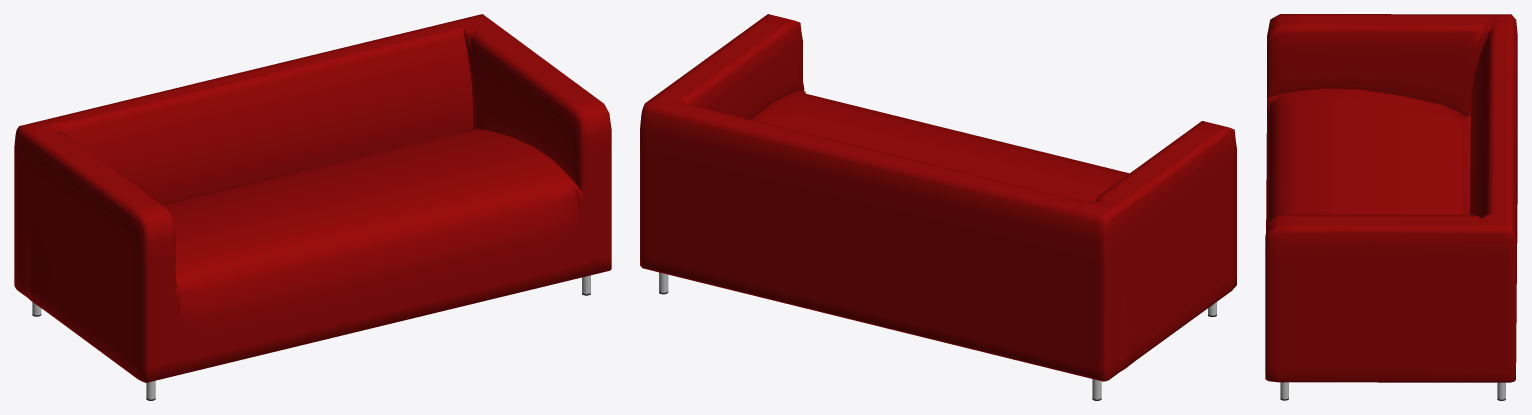
The model's file is IKEA-Kipplan_2_Seat_Sofa-3D.obj.
3 views of the same model, side by side, from view 1: azimuth 30°, elevation 25°; view 2: azimuth 150°, elevation 25°; view 3: azimuth 270°, elevation 25° (orthographic). The views are drawn at different scales.
Parts seen in each view (by area): view 1: Cylinder03; view 2: Cylinder03; view 3: Cylinder03.
Boxes of the visible parts, <box> form: Cylinder03: <box>14,14,611,400</box>; Cylinder03: <box>640,14,1236,400</box>; Cylinder03: <box>1265,14,1517,400</box>.
Size of the model in its own units: 180 by 69.77 by 88.63.
